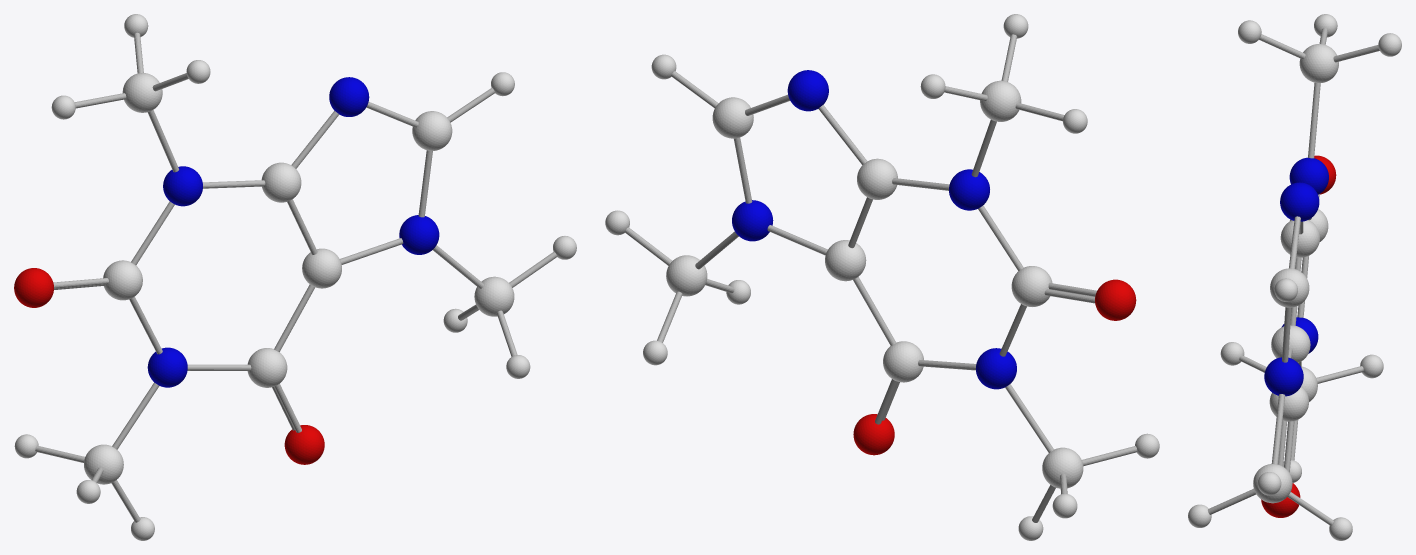
3 renders of one model, left to right at view 1: azimuth 30°, elevation 25°; view 2: azimuth 150°, elevation 25°; view 3: azimuth 270°, elevation 25°, orthographic. The views are drawn at different scales.
Visible parts, largest first — view 1: world; view 2: world; view 3: world.
Part boxes in pixels (x1,y1,x2,y2): world: (14,14,576,540); world: (605,14,1159,540); world: (1188,14,1401,540).
Bounding box in the file's own units: 7.7 × 6.68 × 2.71.
